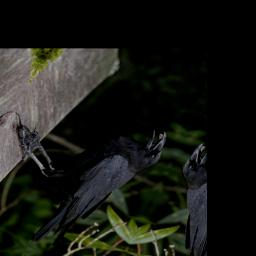Crow: (0, 97, 173, 256)
